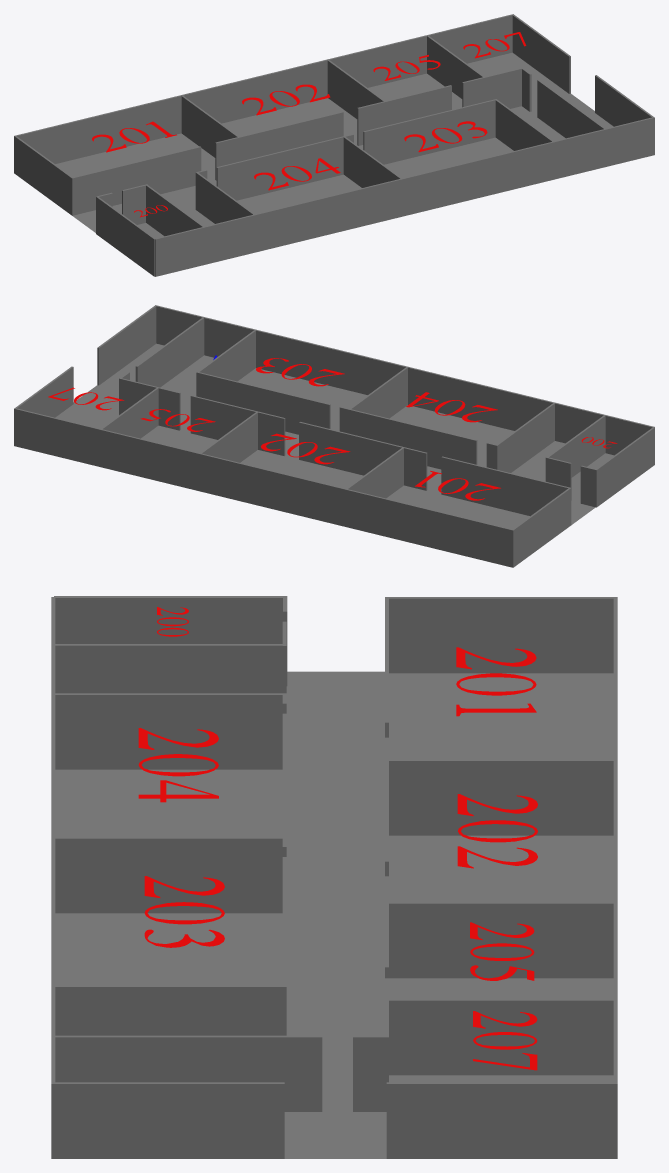
File: mitch2.obj
3 views of the same model, one above another, from view 1: azimuth 30°, elevation 25°; view 2: azimuth 150°, elevation 25°; view 3: azimuth 270°, elevation 25° (orthographic). The views are drawn at different scales.
Parts seen in each view (by area): view 1: mitch0:pCube3, mitch0:pCube4, mitch0:wood0:pPlane1, pCube18, pCube66, pCube34, pCube64, pCube65, pCube1, pCube48, mitch0:pCube1, pCube6 (+11 smaller); view 2: mitch0:pCube4, mitch0:wood0:pPlane1, mitch0:pCube3, pCube34, pCube64, pCube66, pCube18, pCube65, pCube6, pCube7, mitch0:pCube1, pCube1 (+11 smaller); view 3: mitch0:wood0:pPlane1, pCube7, pCube48, pCube63, pCube1, pCube2, pCube59, pCube61, pCube60, pCube6, pCube5, mitch0:pCube2 (+5 smaller).
Part boxes in pixels (x1,y1,x2,y2): mitch0:pCube3: [155, 117, 654, 276]; mitch0:pCube4: [14, 14, 513, 173]; mitch0:wood0:pPlane1: [55, 52, 613, 238]; pCube18: [363, 99, 496, 164]; pCube66: [216, 134, 353, 200]; pCube34: [73, 146, 201, 215]; pCube64: [215, 111, 343, 180]; pCube65: [357, 85, 451, 145]; pCube1: [15, 136, 73, 215]; pCube48: [512, 14, 570, 93]; mitch0:pCube1: [97, 197, 154, 276]; pCube6: [537, 80, 605, 138]; mitch0:pCube4: [14, 408, 514, 567]; mitch0:wood0:pPlane1: [55, 343, 613, 529]; mitch0:pCube3: [155, 305, 654, 455]; pCube34: [441, 456, 569, 516]; pCube64: [299, 422, 427, 490]; pCube66: [339, 407, 477, 469]; pCube18: [196, 371, 330, 434]; pCube65: [190, 395, 285, 455]; pCube6: [135, 317, 204, 387]; pCube7: [97, 306, 156, 385]; mitch0:pCube1: [596, 427, 654, 506]; pCube1: [512, 487, 571, 566]; mitch0:wood0:pPlane1: [55, 671, 613, 1158]; pCube7: [55, 1082, 284, 1158]; pCube48: [386, 1082, 616, 1158]; pCube63: [54, 837, 282, 913]; pCube1: [385, 597, 613, 673]; pCube2: [55, 693, 282, 769]; pCube59: [385, 759, 613, 835]; pCube61: [385, 999, 613, 1075]; pCube60: [385, 902, 613, 978]; pCube6: [55, 1035, 322, 1111]; pCube5: [54, 985, 282, 1035]; mitch0:pCube2: [54, 644, 282, 693].
Bounding box in the file's own units: 2802 × 201 × 1374.
